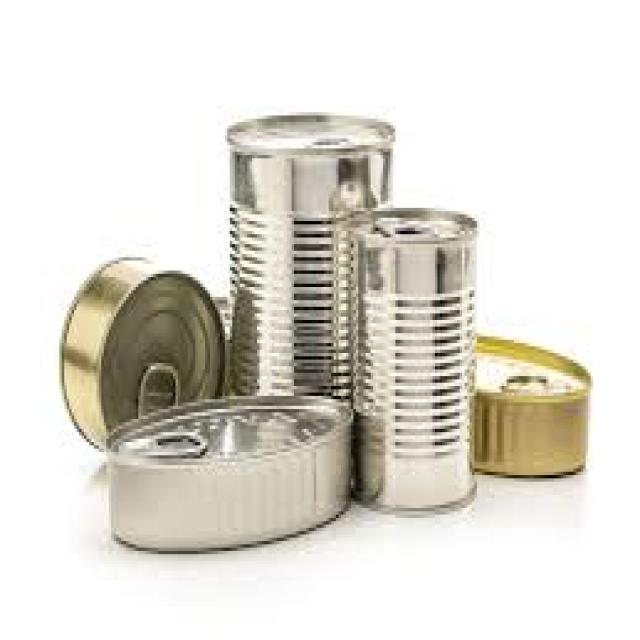Lata: (331, 215, 474, 514)
